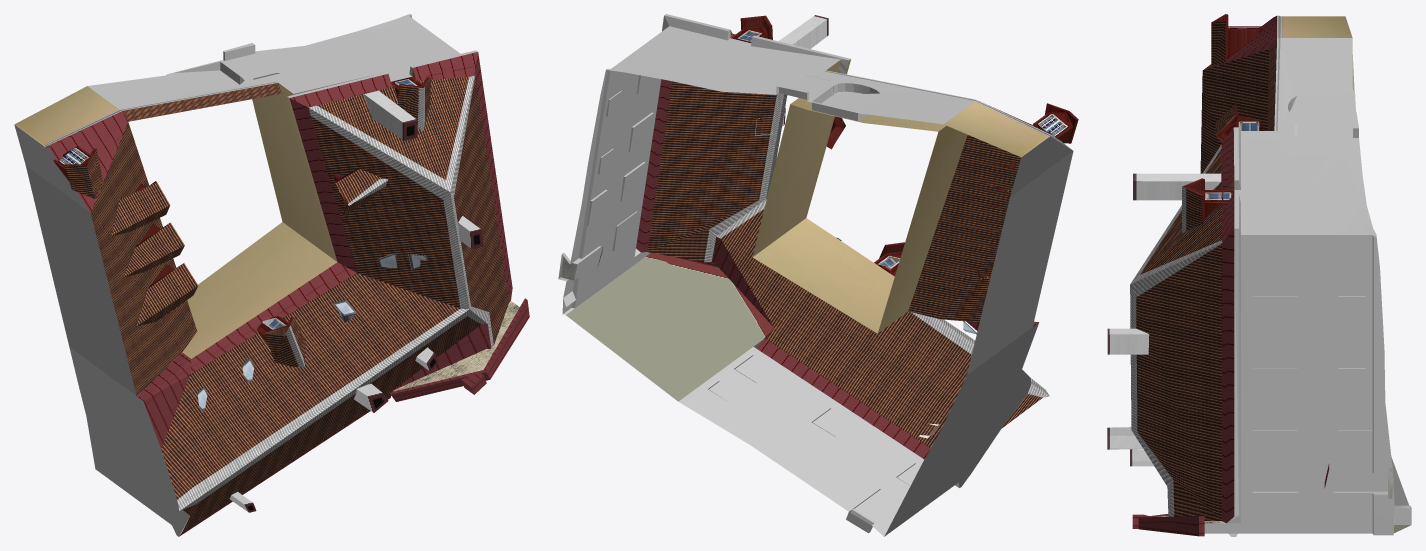
The model's file is Lossi_plats_5-origo.obj.
The picture shows the model from 3 angles, left to right: view 1: azimuth 30°, elevation 25°; view 2: azimuth 150°, elevation 25°; view 3: azimuth 270°, elevation 25°; orthographic projection. The views are drawn at different scales.
Parts seen in each view (by area): view 1: Lossi_plats_5; view 2: Lossi_plats_5; view 3: Lossi_plats_5.
Boxes of the visible parts, box(x1,y1,x2,y2) form: Lossi_plats_5: box(14, 14, 529, 536); Lossi_plats_5: box(558, 14, 1078, 536); Lossi_plats_5: box(1107, 14, 1411, 536).
Bounding box in the file's own units: 27.38 × 24 × 14.33.
